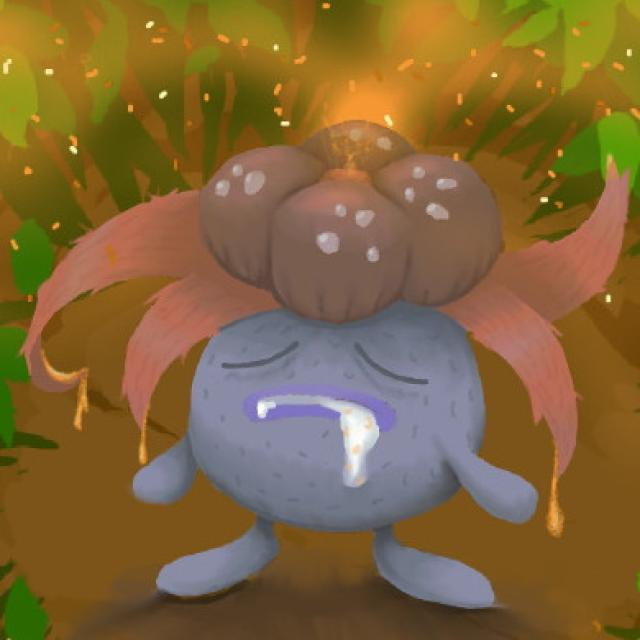Gloom: (129, 122, 516, 600)
